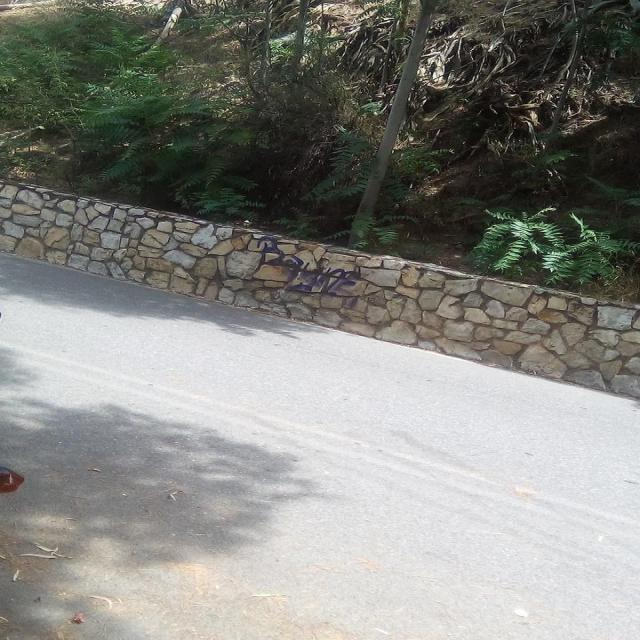nonspitting: (256, 234, 359, 296)
